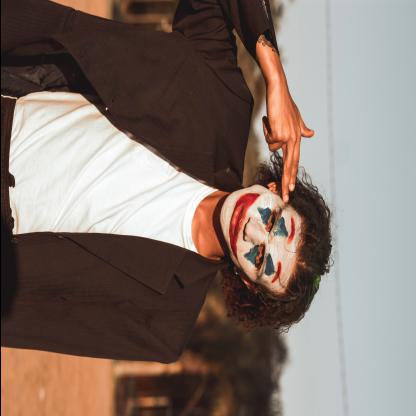Eye: (264, 207, 278, 237), (253, 244, 267, 274)
Mouth: (228, 202, 247, 236)
Nose: (242, 216, 268, 240)
